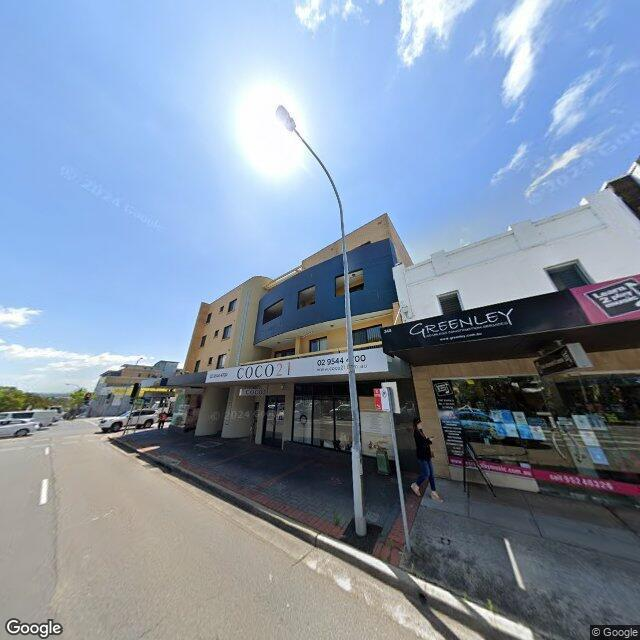steel-pole: (343, 251, 368, 537), (123, 403, 135, 436)
streetlight: (274, 104, 346, 250)
traffic-light: (129, 382, 142, 405), (84, 392, 92, 404)
